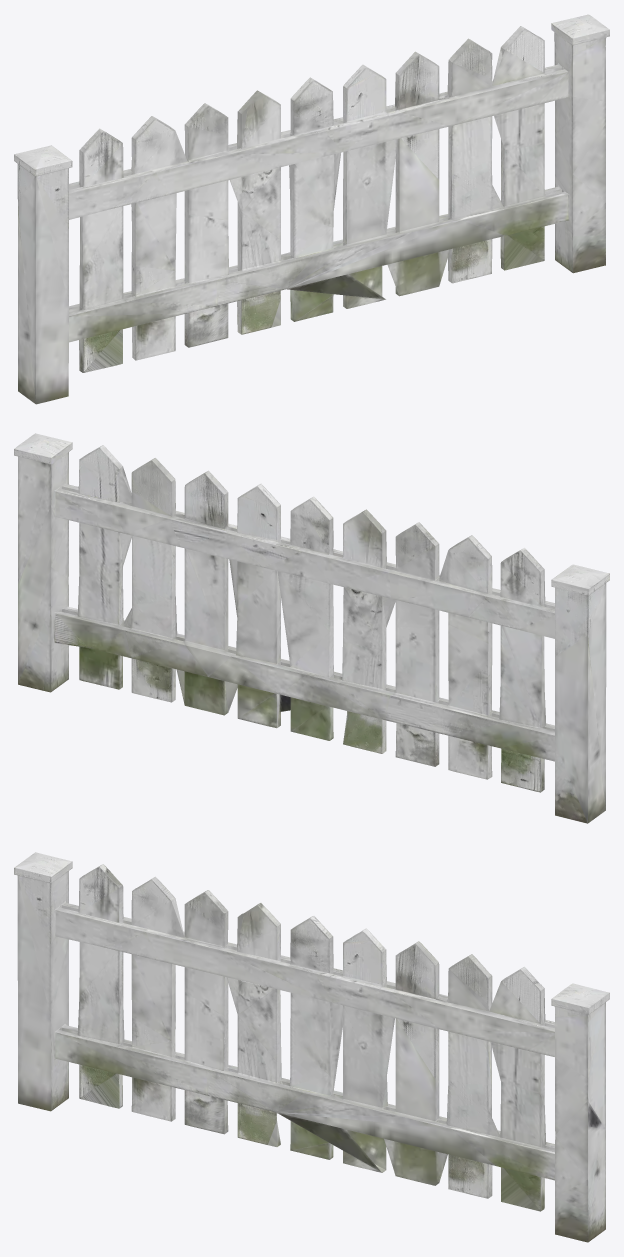
The model's file is picket_fence.glb.
The picture shows the model from 3 angles, top to bottom: view 1: azimuth 30°, elevation 25°; view 2: azimuth 150°, elevation 25°; view 3: azimuth 330°, elevation 25°; orthographic projection.
Parts seen in each view (by area): view 1: Mesh_0; view 2: Mesh_0; view 3: Mesh_0.
Boxes of the visible parts, left/top/right/bottom form: Mesh_0: left=14, top=14, right=609, bottom=404; Mesh_0: left=14, top=433, right=609, bottom=823; Mesh_0: left=14, top=852, right=609, bottom=1242.
Bounding box in the file's own units: 1.9 × 0.7889 × 0.1219.
Materials: 1 (1 with a texture image).
